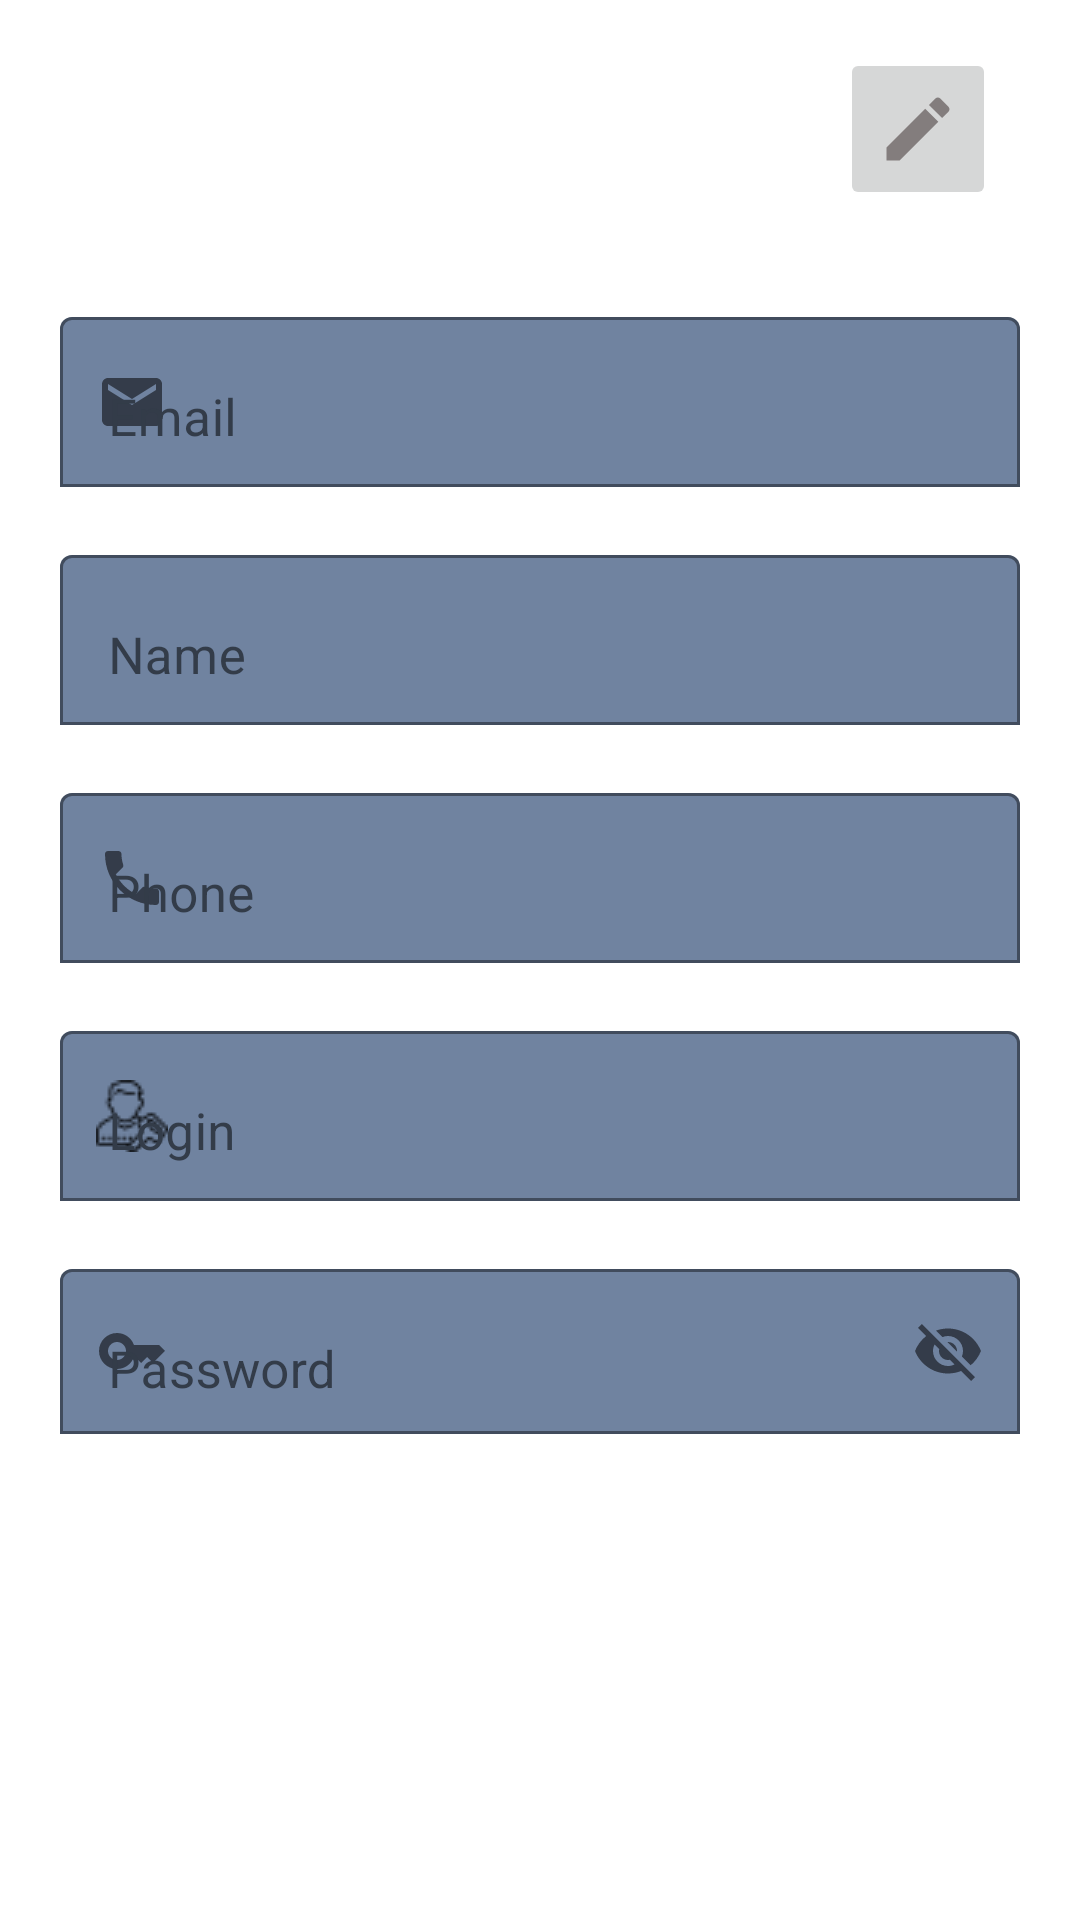

Locate icon controls on the screen. Image size 1080×1920, boxes as [x1, y1, x2, y2].
create: [852, 66, 984, 192]
